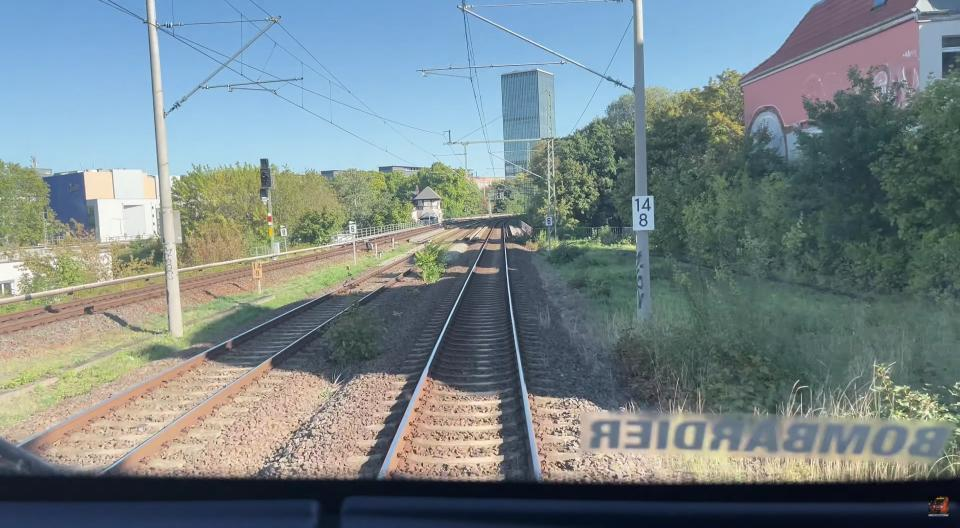Plant: (532, 256, 614, 396), (326, 308, 386, 364), (415, 243, 446, 283), (320, 374, 343, 397), (538, 302, 551, 329)
